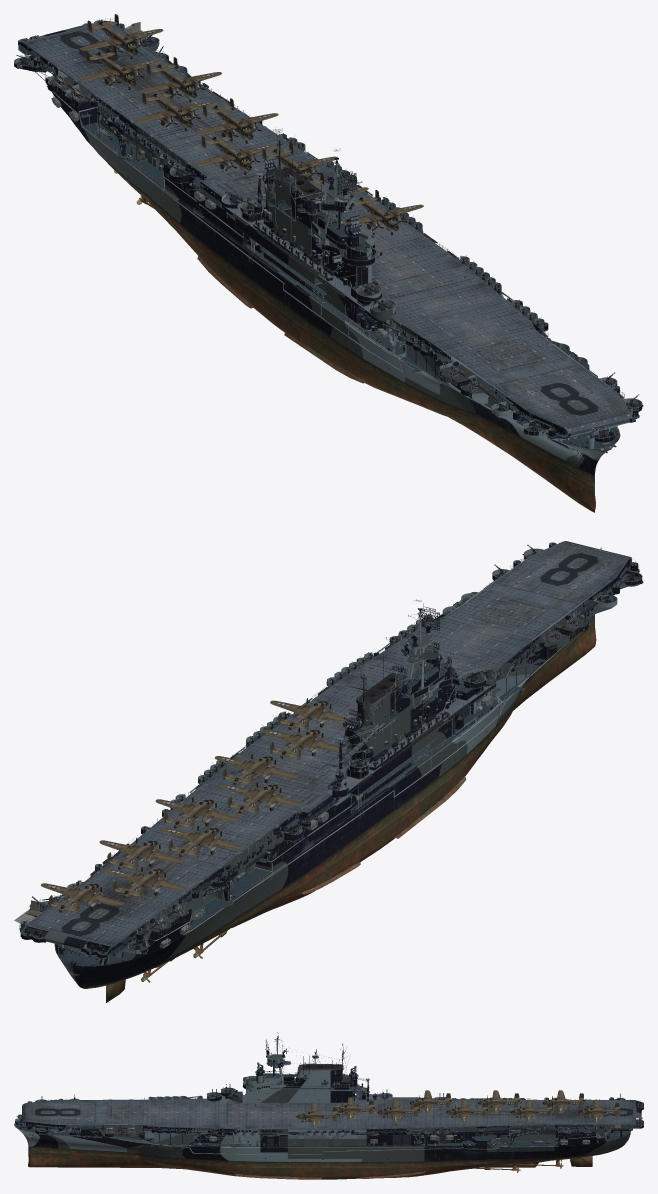
File: u.s._navy_aircraft_carrier_uss_hornetcv-8-maximum-compressed.glb
3 views of the same model, one above another, from view 1: azimuth 30°, elevation 25°; view 2: azimuth 150°, elevation 25°; view 3: azimuth 270°, elevation 25° (orthographic). The views are drawn at different scales.
Parts seen in each view (by area): view 1: ad001_director_mk371_Enterprise_asa001_enterprise_1944_deckh (×2), ad001_director_mk371_Enterprise_asa001_enterprise_1944_hull_, ad001_director_mk371, ad001_director_mk371_Enterprise_asa001_enterprise_1944_bulge, wing_l015, wing_l011, wing_l013, wing_l016, wing_l012, wing_l014, wing_l008, wing_l010; view 2: ad001_director_mk371_Enterprise_asa001_enterprise_1944_deckh (×2), ad001_director_mk371, ad001_director_mk371_Enterprise_asa001_enterprise_1944_hull_, ad001_director_mk371_Enterprise_asa001_enterprise_1944_bulge, wing_l015, wing_l010, wing_l013, wing_l012, wing_l014, wing_l016, wing_l011, wing_l009 (+1 smaller); view 3: ad001_director_mk371_Enterprise_asa001_enterprise_1944_hull_, ad001_director_mk371_Enterprise_asa001_enterprise_1944_deckh (×2), ad001_director_mk371, ad001_director_mk371_Enterprise_asa001_enterprise_1944_bulge, wing_l008, wing_l016, wing_l012, wing_l014, wing_l010, wing_l013, wing_l015, wing_l009 (+1 smaller).
Boxes of the visible parts, x1=… form: ad001_director_mk371_Enterprise_asa001_enterprise_1944_deckh (×2): x1=14, y1=18, x2=642, y2=448; ad001_director_mk371_Enterprise_asa001_enterprise_1944_hull_: x1=18, y1=22, x2=635, y2=485; ad001_director_mk371: x1=16, y1=19, x2=643, y2=460; ad001_director_mk371_Enterprise_asa001_enterprise_1944_bulge: x1=14, y1=23, x2=637, y2=512; wing_l015: x1=77, y1=45, x2=161, y2=90; wing_l011: x1=193, y1=129, x2=276, y2=174; wing_l013: x1=134, y1=86, x2=217, y2=131; wing_l016: x1=80, y1=14, x2=163, y2=59; wing_l012: x1=195, y1=98, x2=278, y2=143; wing_l014: x1=138, y1=57, x2=221, y2=102; wing_l008: x1=345, y1=190, x2=423, y2=234; wing_l010: x1=254, y1=142, x2=336, y2=181; ad001_director_mk371_Enterprise_asa001_enterprise_1944_deckh (×2): x1=14, y1=541, x2=642, y2=967; ad001_director_mk371: x1=14, y1=541, x2=643, y2=988; ad001_director_mk371_Enterprise_asa001_enterprise_1944_hull_: x1=19, y1=559, x2=639, y2=966; ad001_director_mk371_Enterprise_asa001_enterprise_1944_bulge: x1=21, y1=543, x2=636, y2=1002; wing_l015: x1=104, y1=866, x2=187, y2=899; wing_l010: x1=214, y1=753, x2=297, y2=786; wing_l013: x1=161, y1=825, x2=243, y2=857; wing_l012: x1=155, y1=797, x2=238, y2=829; wing_l014: x1=99, y1=838, x2=182, y2=870; wing_l016: x1=41, y1=880, x2=123, y2=913; wing_l011: x1=220, y1=781, x2=303, y2=814; wing_l009: x1=262, y1=726, x2=344, y2=759; ad001_director_mk371_Enterprise_asa001_enterprise_1944_hull_: x1=14, y1=1092, x2=641, y2=1167; ad001_director_mk371_Enterprise_asa001_enterprise_1944_deckh (×2): x1=15, y1=1032, x2=643, y2=1154; ad001_director_mk371: x1=16, y1=1041, x2=642, y2=1172; ad001_director_mk371_Enterprise_asa001_enterprise_1944_bulge: x1=23, y1=1040, x2=641, y2=1179; wing_l008: x1=295, y1=1103, x2=341, y2=1126; wing_l016: x1=577, y1=1099, x2=622, y2=1122; wing_l012: x1=445, y1=1099, x2=489, y2=1122; wing_l014: x1=509, y1=1099, x2=554, y2=1122; wing_l010: x1=376, y1=1099, x2=421, y2=1122; wing_l013: x1=477, y1=1090, x2=521, y2=1113; wing_l015: x1=541, y1=1090, x2=586, y2=1113; wing_l009: x1=331, y1=1097, x2=376, y2=1120.
Size of the model in its own units: 27.89 by 36.37 by 168.
Materials: 83 (80 with a texture image).
